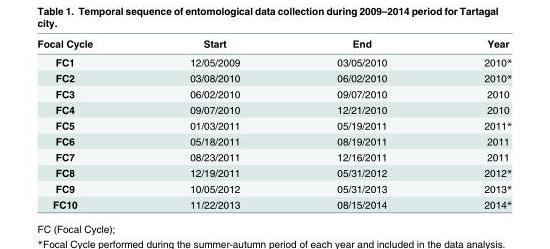table: (36, 36, 511, 210)
table column: (140, 36, 287, 210), (287, 36, 434, 210), (36, 36, 140, 210), (434, 36, 511, 210)
table column header: (36, 36, 511, 52)
table row: (36, 52, 511, 69), (36, 36, 511, 52), (36, 69, 511, 85), (36, 85, 511, 101), (36, 101, 511, 117), (36, 117, 511, 133), (36, 148, 511, 164), (36, 164, 511, 180), (36, 180, 511, 196), (36, 133, 511, 148), (36, 196, 511, 210)
